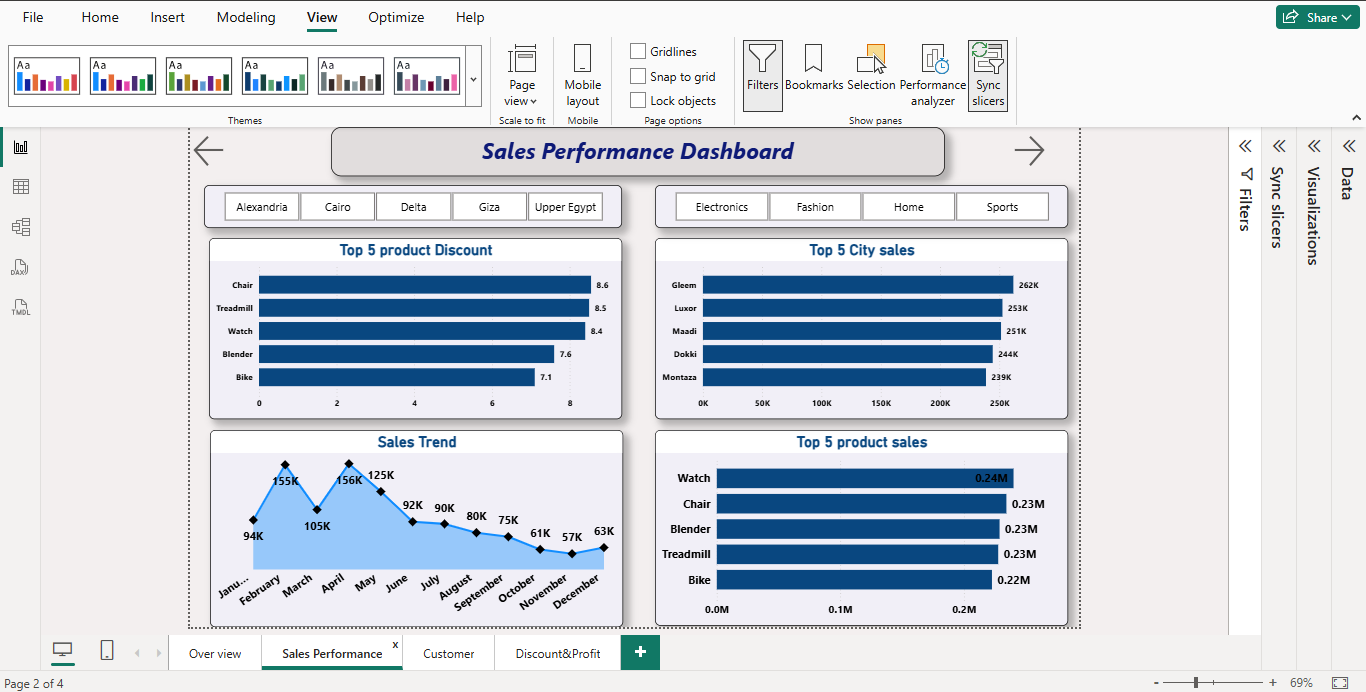

This screenshot's page, from the dashboard's own definition file:
{"tool":"powerbi","page":{"name":"Sales Performance","canvas":[1280,720],"ordinal":1},"visuals":[{"type":"textbox","box":[203.3,0,883.6,70.6],"z":0},{"type":"clusteredBarChart","title":"Top 5 product sales","fields":{"Category":["sales_dataset.Product"],"Y":["sales_dataset.Total Sales"]},"box":[670.2,436.7,594.6,282.2],"z":1000},{"type":"lineChart","title":"Sales Trend","fields":{"Y":["sales_dataset.Total Sales"],"Category":["sales_dataset.OrderDate.Variation.Date Hierarchy.Month"]},"box":[28.6,436.7,594.6,283.9],"z":2000},{"type":"clusteredBarChart","title":"Top 5 City sales","fields":{"Category":["sales_dataset.City"],"Y":["sales_dataset.Total Sales"]},"box":[669.6,159.8,594.7,260.6],"z":3000},{"type":"slicer","fields":{"Values":["sales_dataset.Region"]},"box":[20.2,83.5,601.9,61.9],"z":4000},{"type":"slicer","fields":{"Values":["sales_dataset.Category"]},"box":[669.6,83.5,594.7,61.9],"z":5000},{"type":"actionButton","box":[1180.8,7.2,99.4,54.7],"z":6000},{"type":"actionButton","box":[0,7.2,99.4,54.7],"z":7000},{"type":"clusteredBarChart","title":"Top 5 product Discount","fields":{"Category":["sales_dataset.Product"],"Y":["Sum(sales_dataset.Discount)"]},"box":[27.4,159.8,594.7,260.6],"z":8000}]}

Visuals, with their boxes on the page's 1280x720 design canvas (x1, y1, x2, y2). These are canvas units, not pixel positions in the 1366x692 screenshot, which may show the page scaled, cropped or inside an application window:
textbox: <bbox>203, 0, 1087, 71</bbox>
"Top 5 product sales" clusteredBarChart: <bbox>670, 437, 1265, 719</bbox>
"Sales Trend" lineChart: <bbox>29, 437, 623, 721</bbox>
"Top 5 City sales" clusteredBarChart: <bbox>670, 160, 1264, 420</bbox>
slicer - sales_dataset.Region: <bbox>20, 84, 622, 145</bbox>
slicer - sales_dataset.Category: <bbox>670, 84, 1264, 145</bbox>
actionButton: <bbox>1181, 7, 1280, 62</bbox>
actionButton: <bbox>0, 7, 99, 62</bbox>
"Top 5 product Discount" clusteredBarChart: <bbox>27, 160, 622, 420</bbox>
